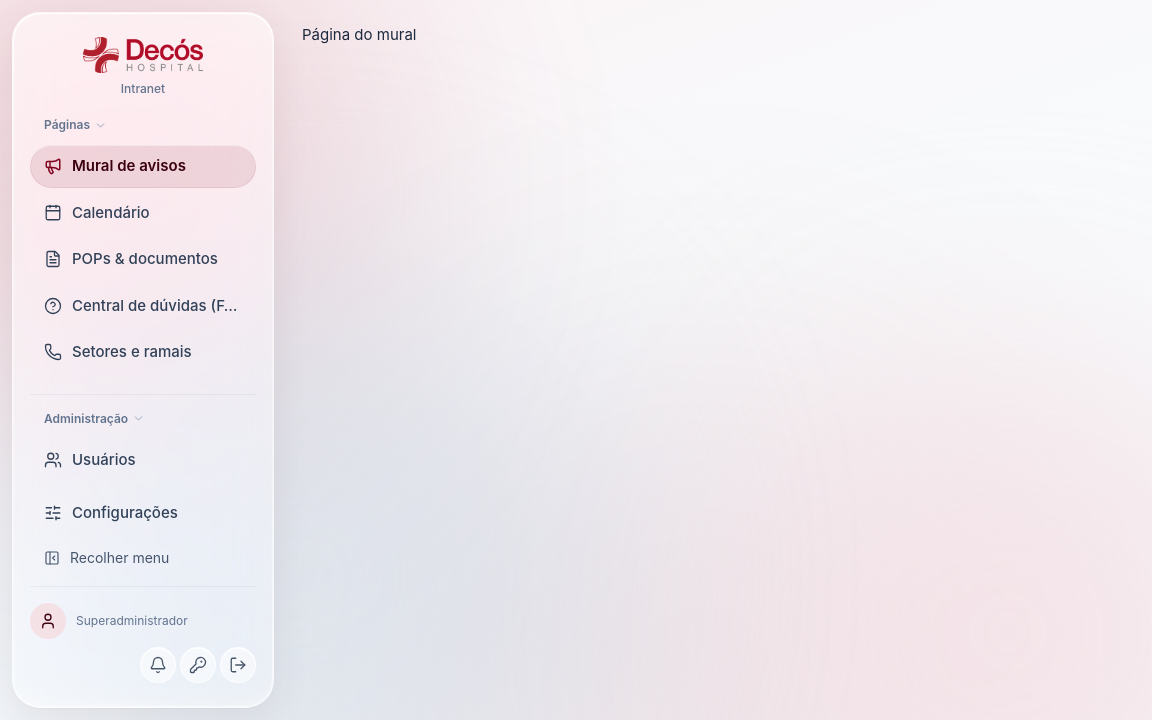
Test: GER-19 — seções colapsáveis do menu lateral › no menu recolhido para ícones, a seção colapsada ainda mostra os itens
Click the button "Páginas": (147, 125) [44,117,250,133]
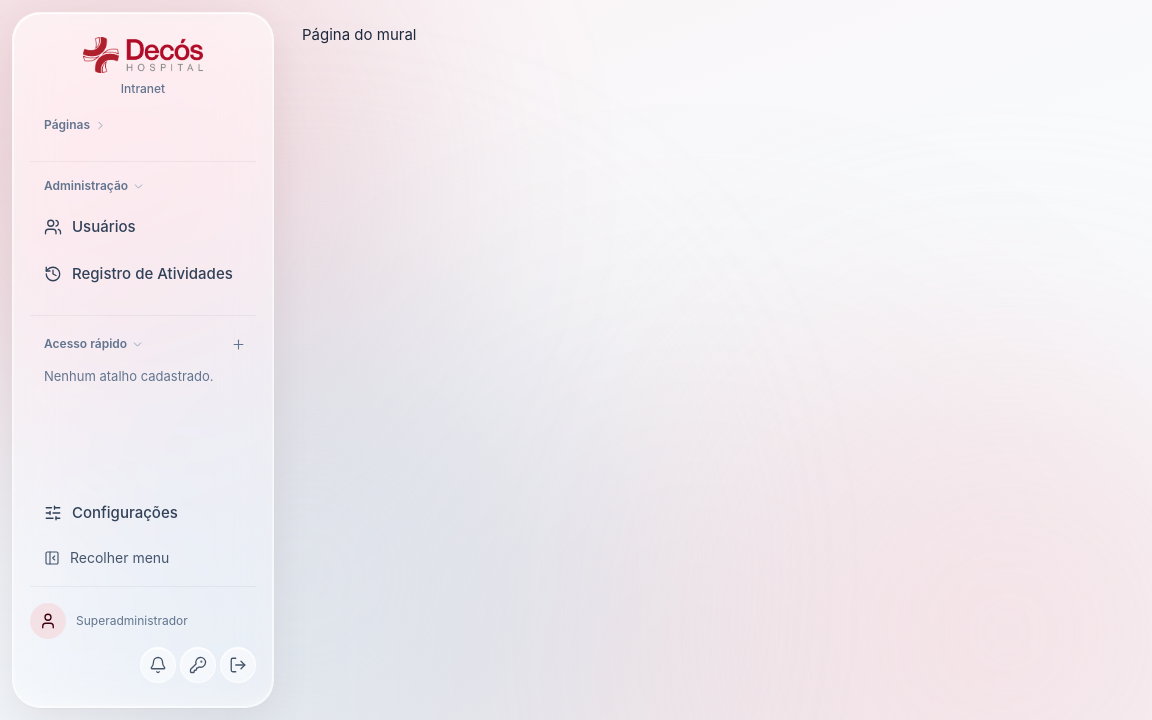
Expected: the link "Mural de avisos" is gone
Click the button titled "Recolher menu": (143, 558) [30,538,256,578]
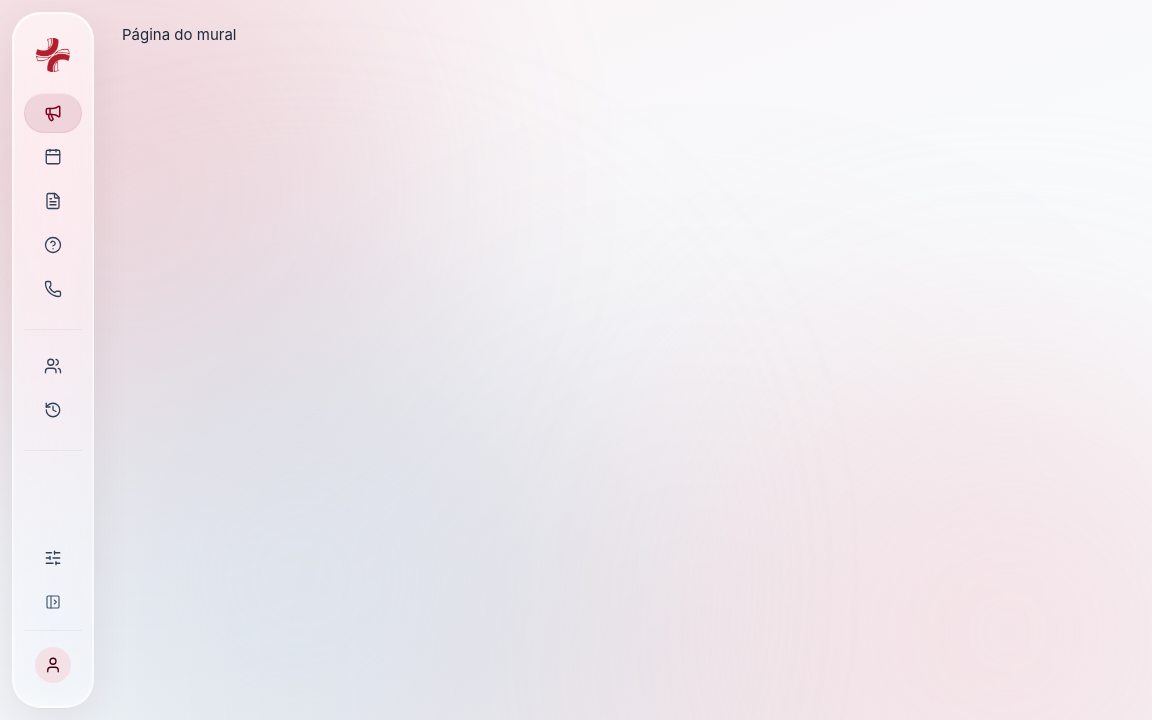
Expected: the link titled "Mural de avisos" is shown, [24,93,82,133]
